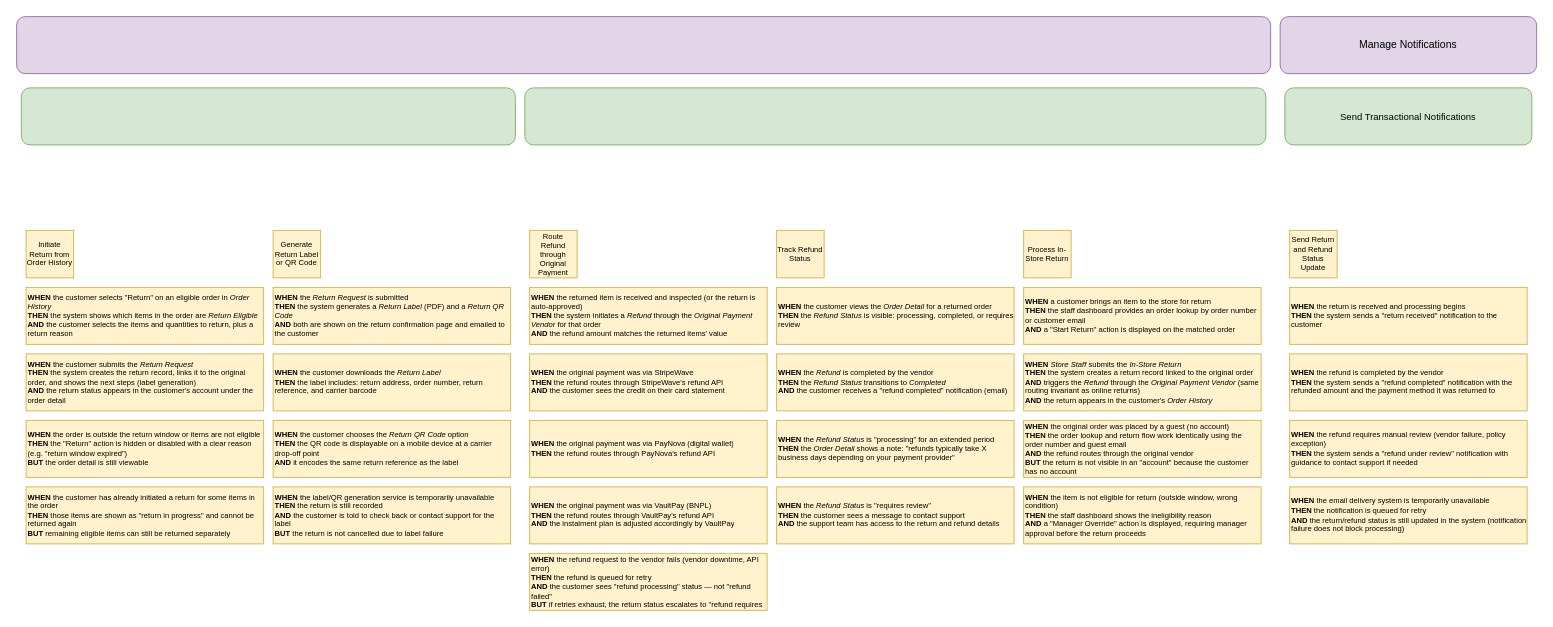
Image size: 1553x627. Some labels were removed from this diagram. The shapes that lost their labels are listed below. From the top down, each one's centre as x and y in pixels, then its label:
the point at 643,45: Return Products
the point at 267,116: Initiate Return
the point at 895,116: Process Refund
